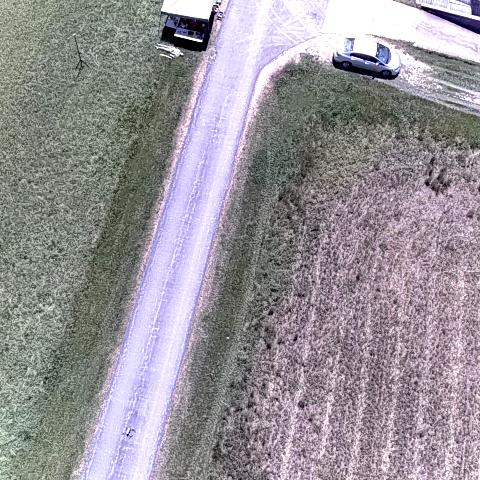person: (152, 39, 184, 59)
